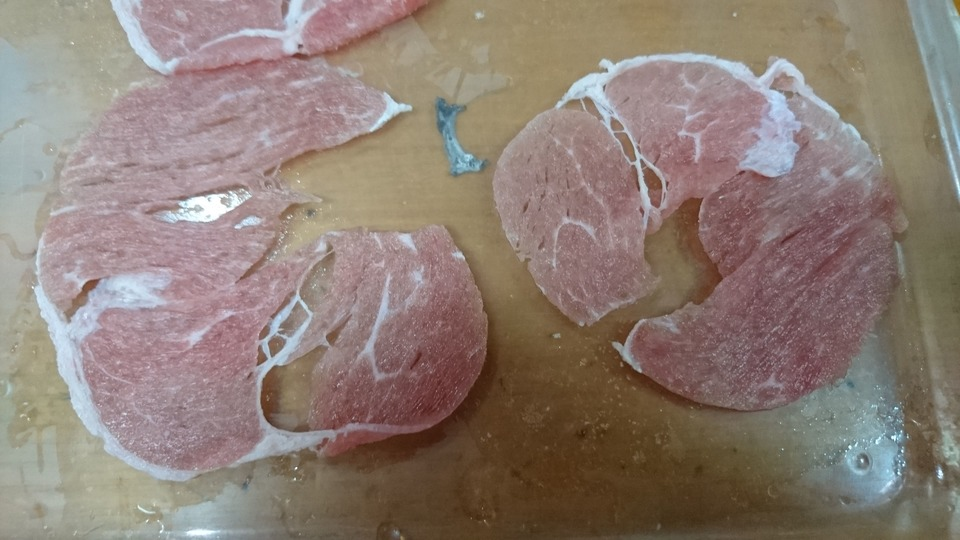restructured meat: (482, 44, 902, 424), (58, 76, 475, 455), (99, 4, 430, 68)
